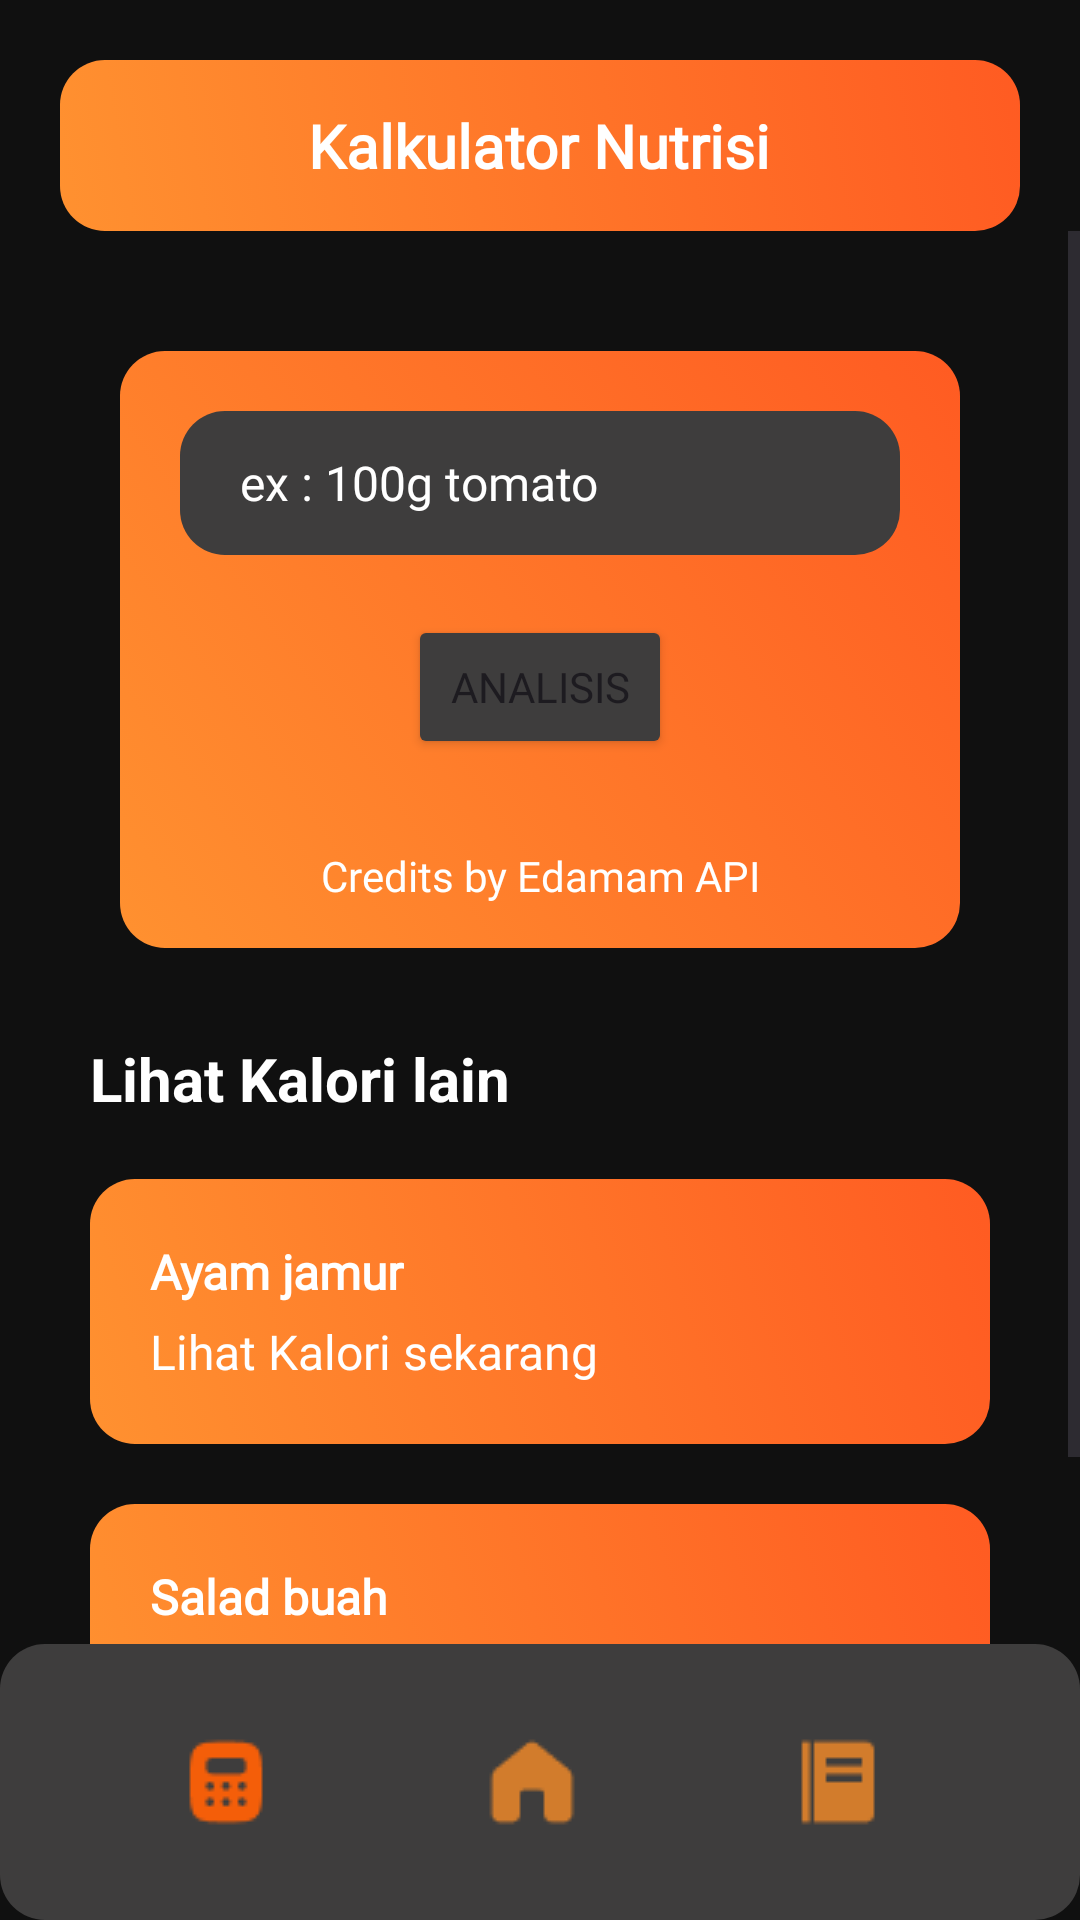

Named icons in this screenshot (1080 × 1920) and their bounding boxes, (x1, y1, x2, y2):
calculator: (189, 1740, 263, 1824)
home: (490, 1740, 574, 1824)
